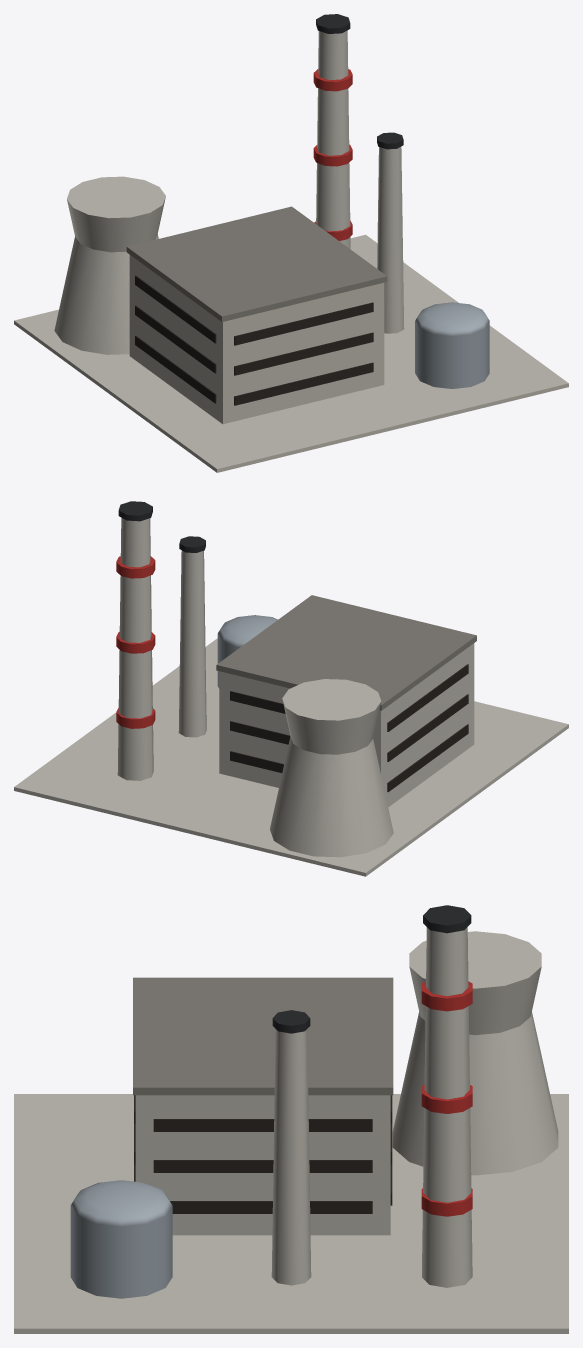
Rendered from building_janakuasa.glb.
3 views of the same model, one above another, from view 1: azimuth 30°, elevation 25°; view 2: azimuth 150°, elevation 25°; view 3: azimuth 270°, elevation 25° (orthographic). The views are drawn at different scales.
Visible parts, largest first — view 1: building_janakuasa; view 2: building_janakuasa; view 3: building_janakuasa.
Part boxes in pixels (box(x1,y1,x2,y2)): building_janakuasa: box(14, 14, 568, 472); building_janakuasa: box(14, 501, 568, 876); building_janakuasa: box(14, 905, 568, 1333).
Size of the model in its own units: 1.96 by 1.43 by 1.96.
